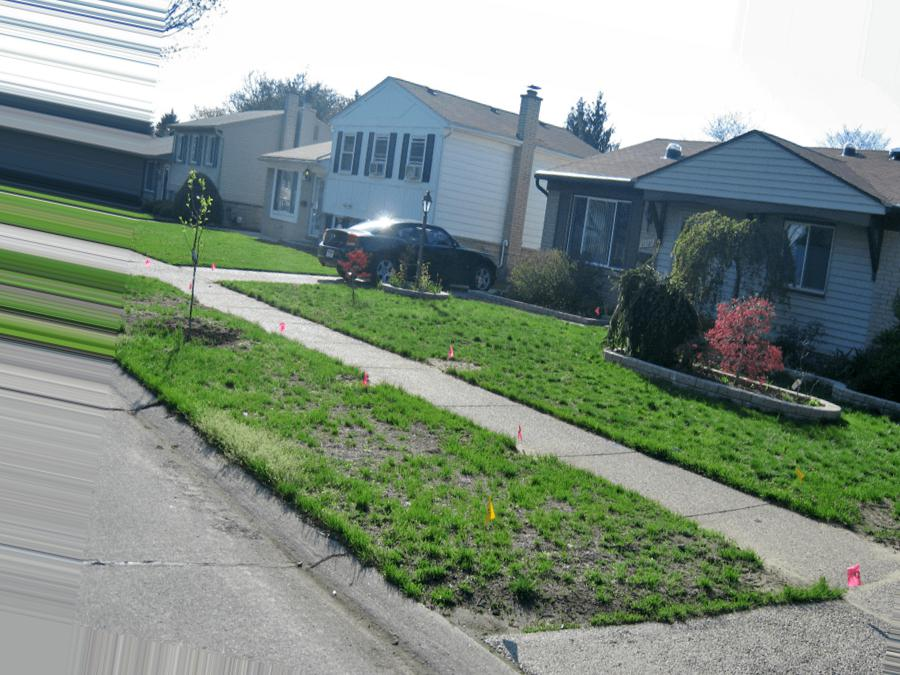patch: (473, 500, 616, 608), (294, 394, 436, 487), (632, 529, 747, 593), (158, 301, 226, 375), (844, 482, 897, 543), (440, 447, 488, 495), (423, 347, 485, 380), (233, 330, 266, 376)
